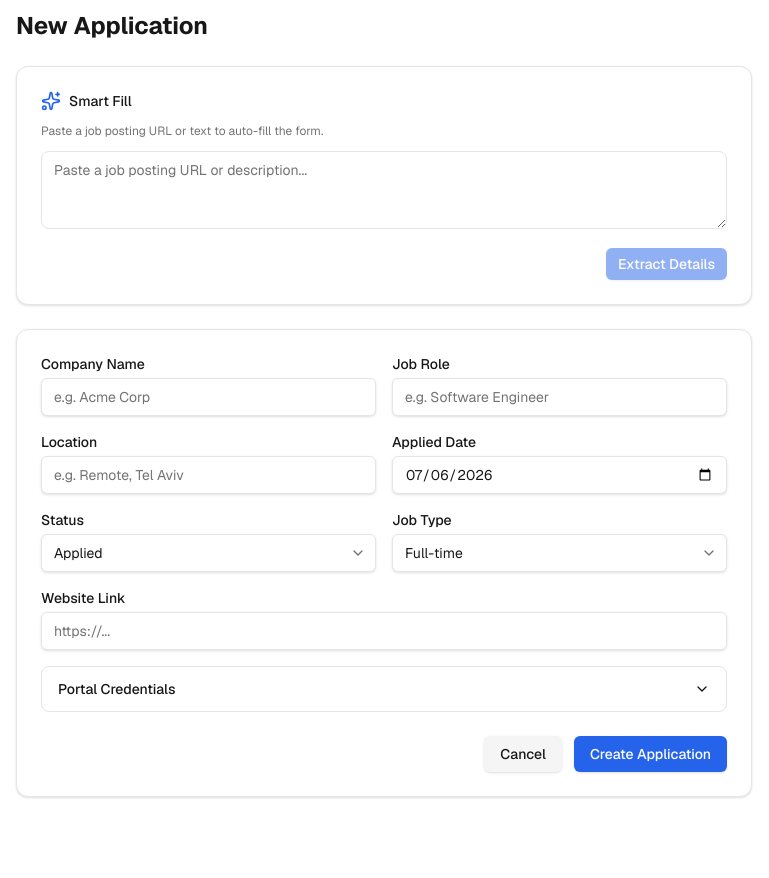
Test: NewApplicationPage › shows credential fields after clicking Portal Credentials toggle
Click the button "Portal Credentials" at (117, 689), box [42,667,726,711]
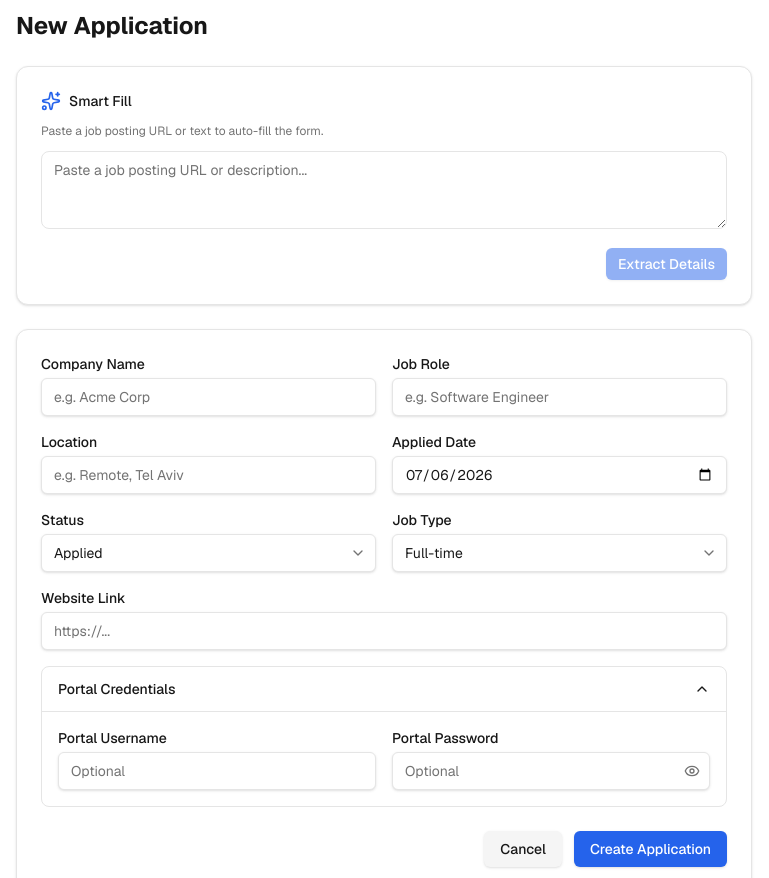
Check: the field labelled "Portal Username" is shown, box [58,752,376,790]
Check: the password field labelled "Portal Password" is shown, box [392,752,710,790]
